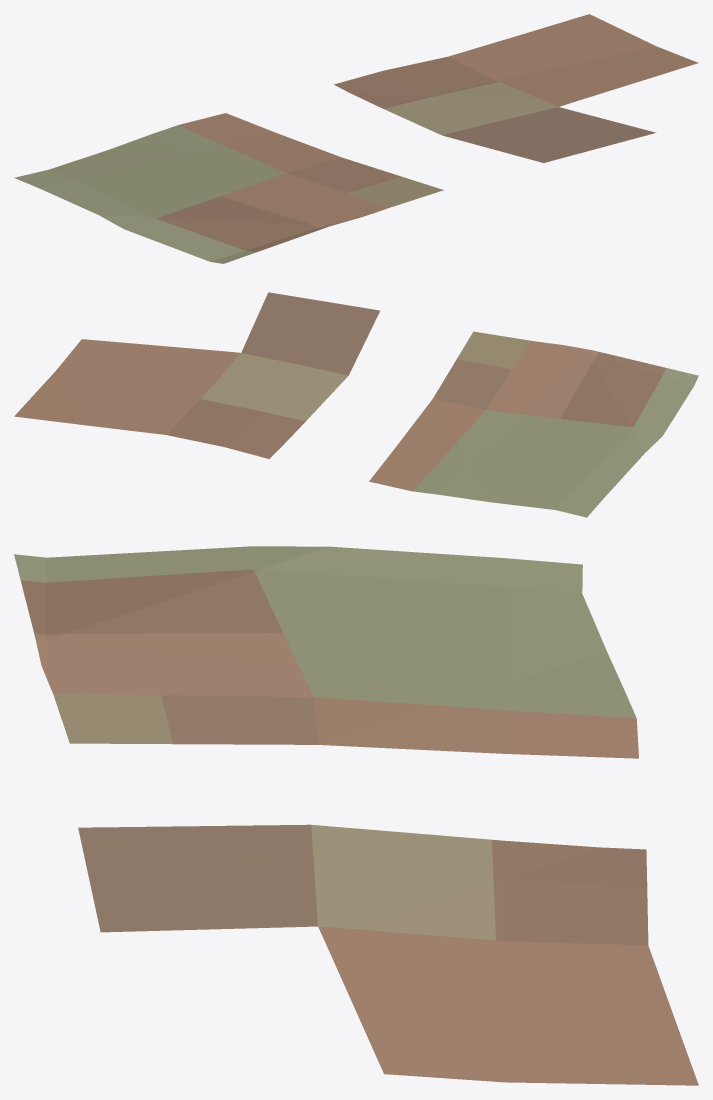
File: farm_4_27_soil.glb
3 views of the same model, one above another, from view 1: azimuth 30°, elevation 25°; view 2: azimuth 150°, elevation 25°; view 3: azimuth 270°, elevation 25° (orthographic). The views are drawn at different scales.
Visible parts, largest first — view 1: geometry_0; view 2: geometry_0; view 3: geometry_0.
Part boxes in pixels (bbox=[...]): geometry_0: bbox=[14, 14, 698, 263]; geometry_0: bbox=[14, 292, 698, 517]; geometry_0: bbox=[14, 546, 698, 1085].
Size of the model in its own units: 214 by 13.75 by 120.
